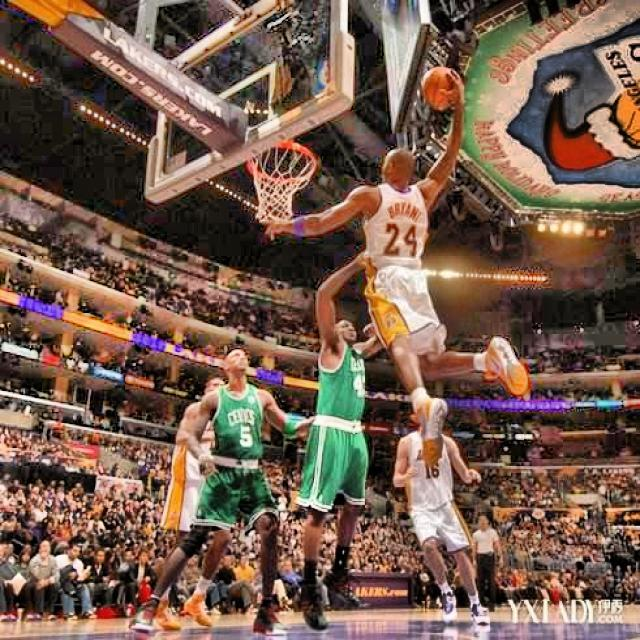rim: (246, 142, 317, 221)
